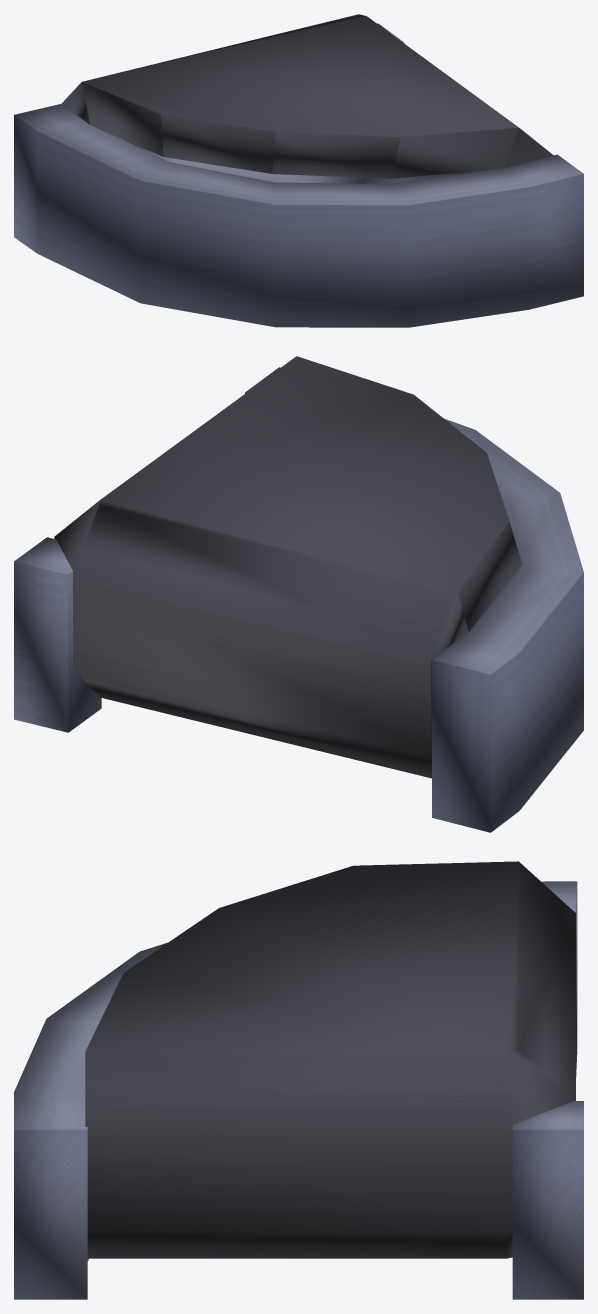
The model's file is Convey_Curve.glb.
3 renders of one model, top to bottom at view 1: azimuth 30°, elevation 25°; view 2: azimuth 150°, elevation 25°; view 3: azimuth 270°, elevation 25°, orthographic. The views are drawn at different scales.
Visible parts, largest first — view 1: Cube.001, conveyor; view 2: conveyor, Cube.001, Cube.004; view 3: conveyor, Cube.001, Cube.004.
Part boxes in pixels (<box>): Cube.001: <box>14,104,583,327</box>; conveyor: <box>61,14,553,183</box>; conveyor: <box>54,356,522,778</box>; Cube.001: <box>245,367,583,832</box>; Cube.004: <box>14,537,101,732</box>; conveyor: <box>85,861,575,1258</box>; Cube.001: <box>14,881,577,1299</box>; Cube.004: <box>512,1101,583,1299</box>.
Size of the model in its own units: 1.03 by 0.4498 by 0.9991.
Materials: 3 (3 with a texture image).
